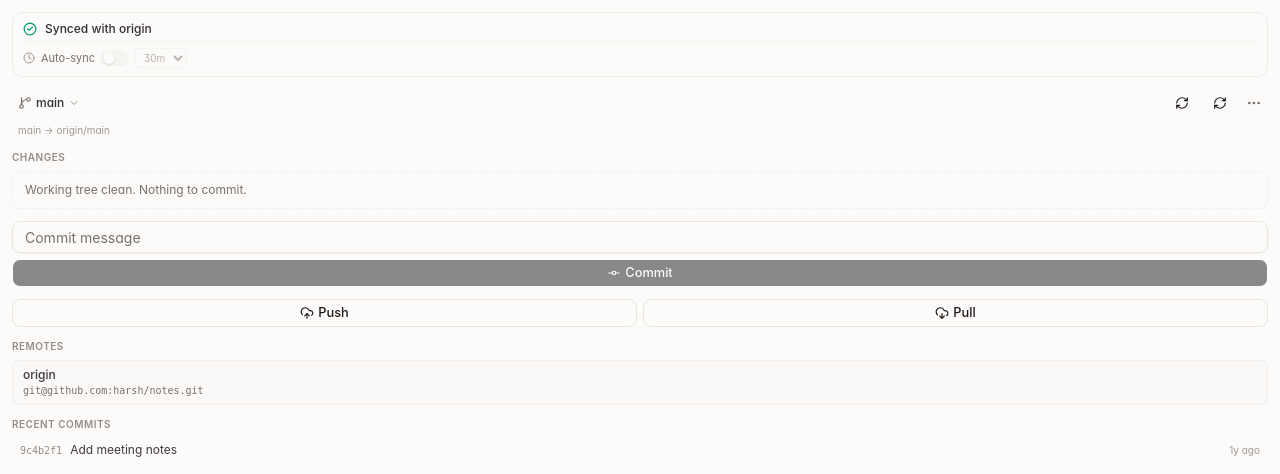
Test: branch switcher menu › opens without throwing and lists branches with the current one checked
Click the button with aria-label "Switch branch": click(49, 103) [12,89,86,117]
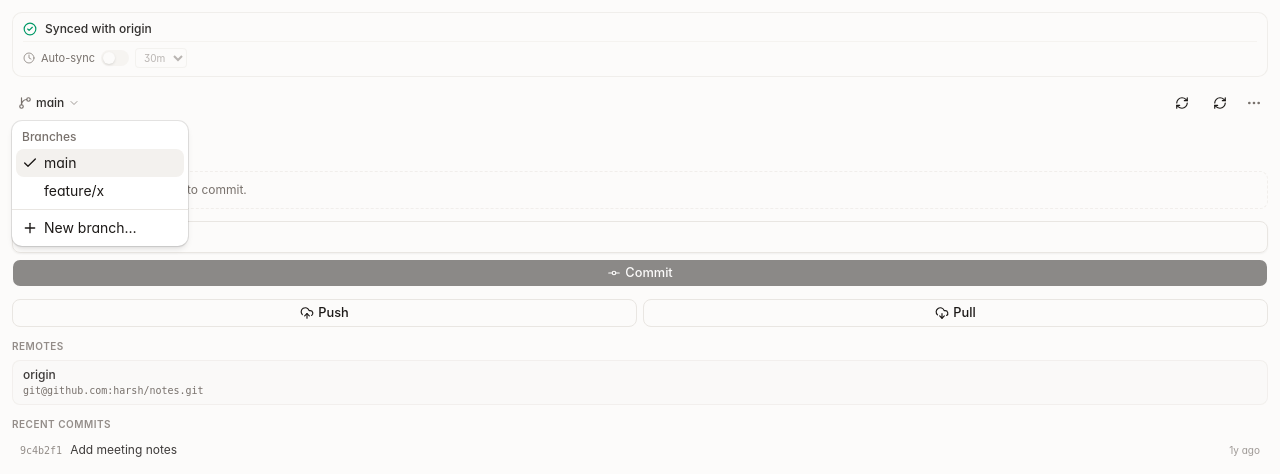
Result: the menu is shown at [12,121,188,246]
